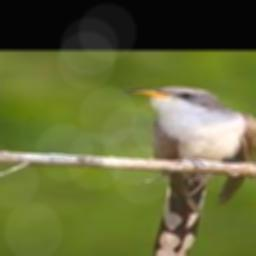Cuckoo: (123, 86, 256, 256)
